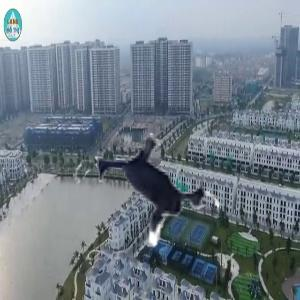drone: (66, 108, 235, 277)
